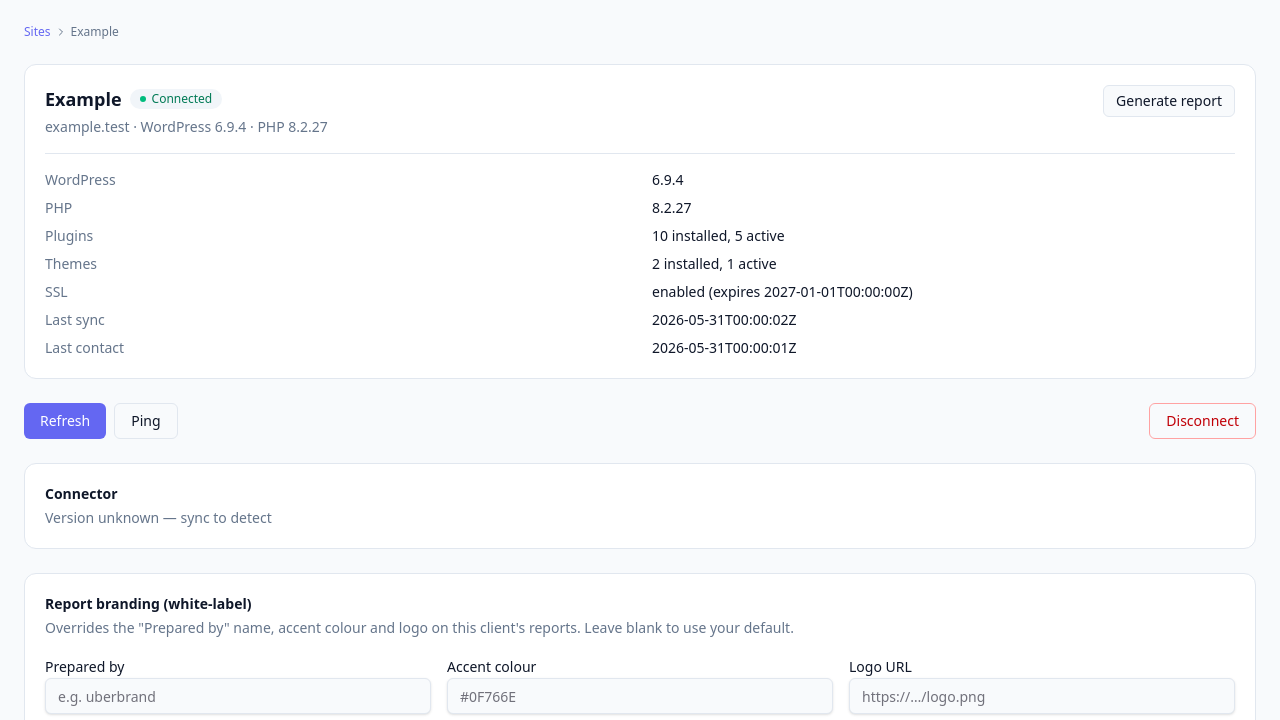
Test: SiteDetail actions › Disconnect opens a confirmation dialog with Cancel option
Step 1. Click the button "Disconnect" → (1203, 421), box [1149,403,1256,439]
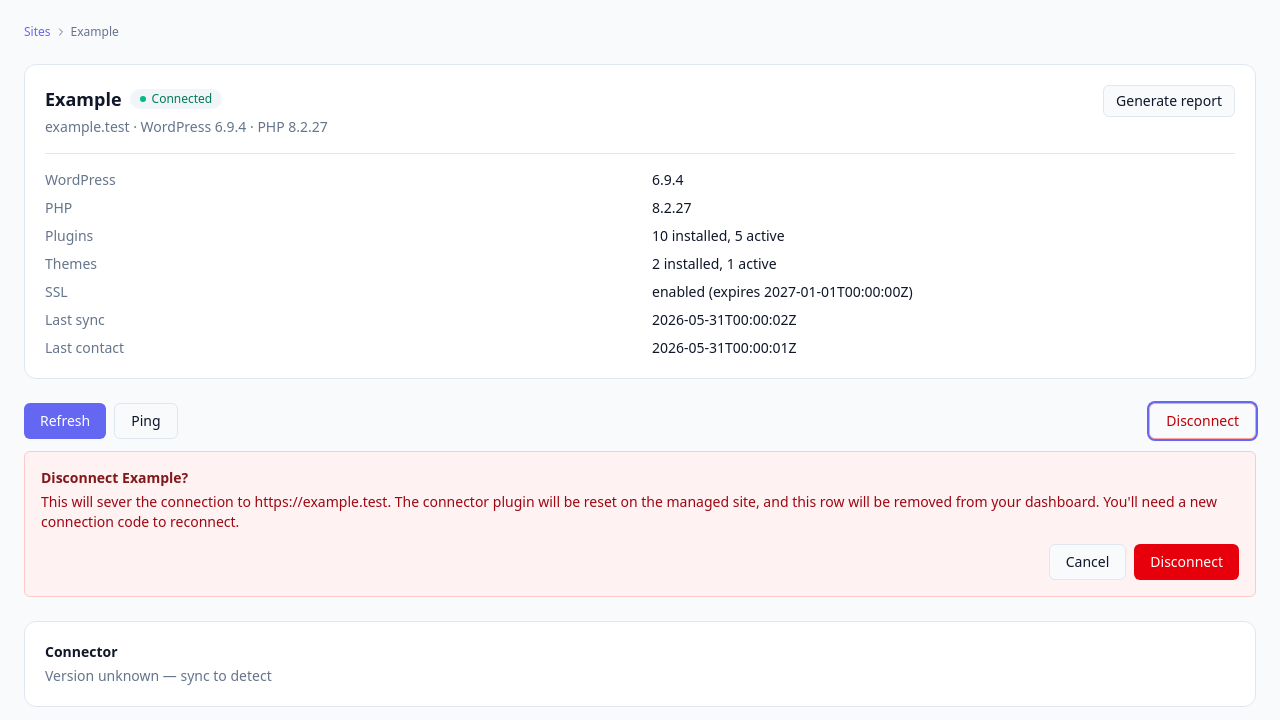
Expected: the heading "Disconnect Example?" is shown, [41,468,188,487]
Expected: the button "Cancel" is shown, [1049,544,1126,580]
